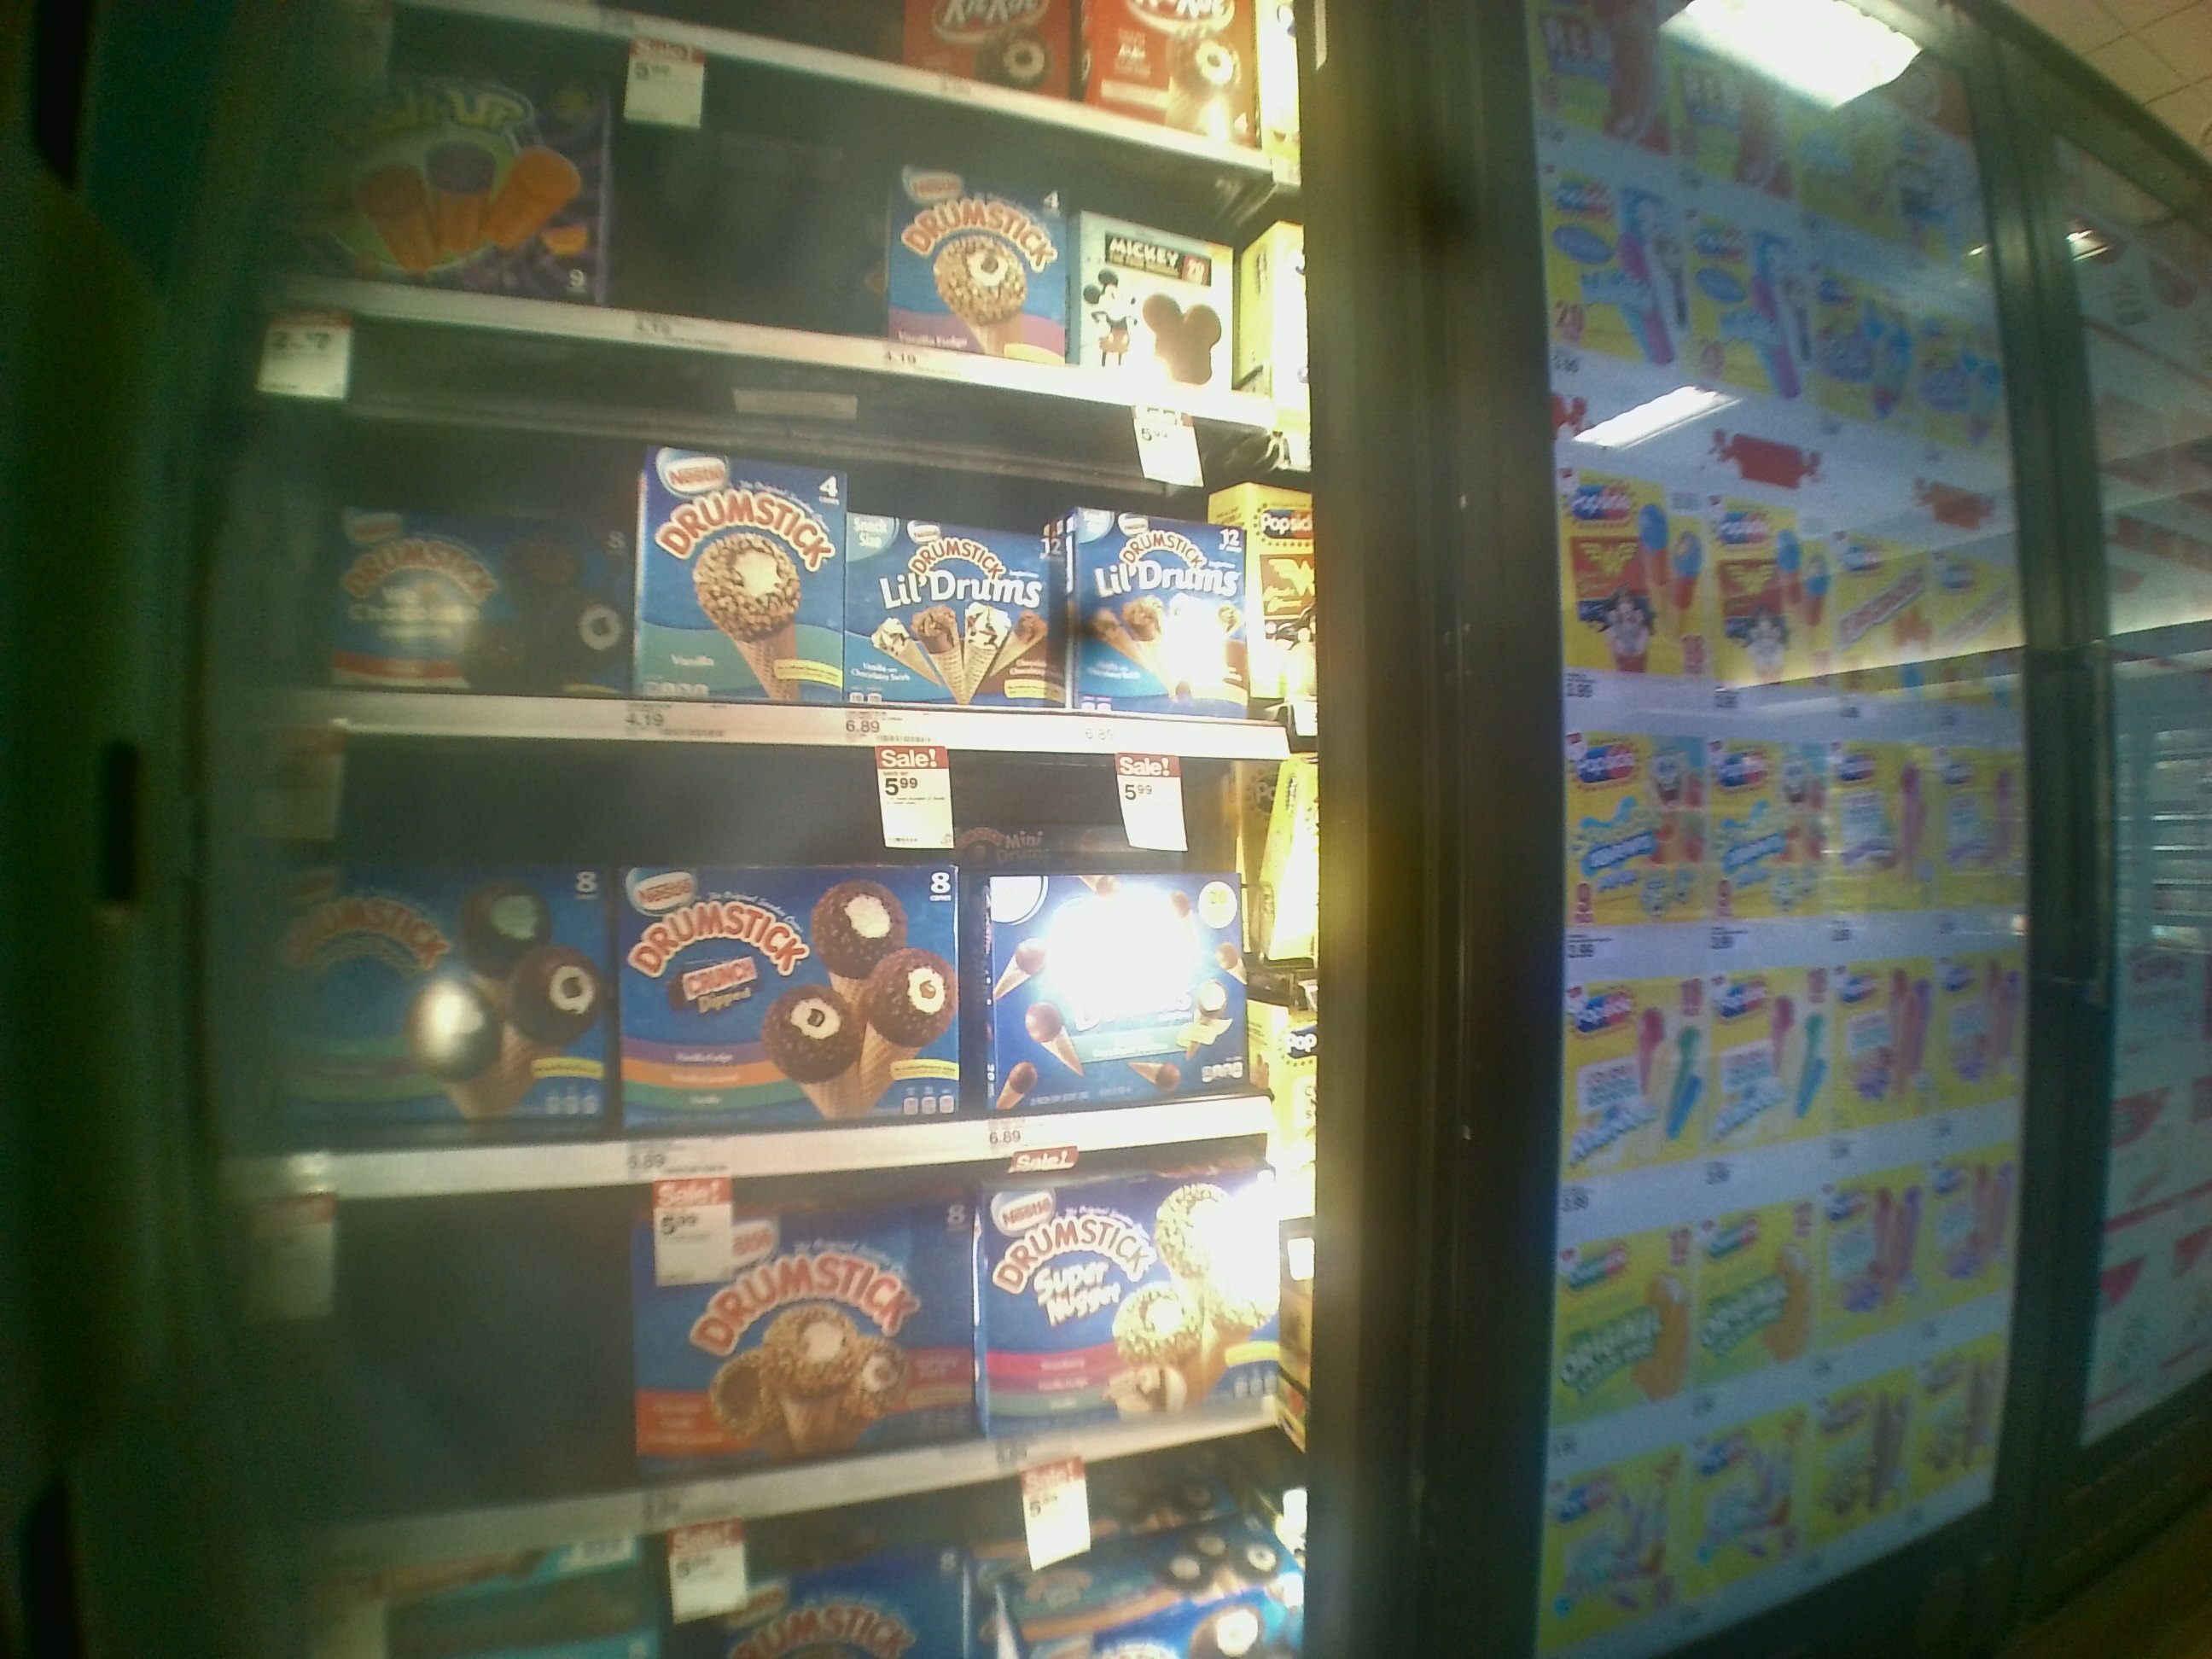shelf: (254, 746, 1292, 1190), (246, 1133, 1318, 1560), (258, 312, 1305, 744)
